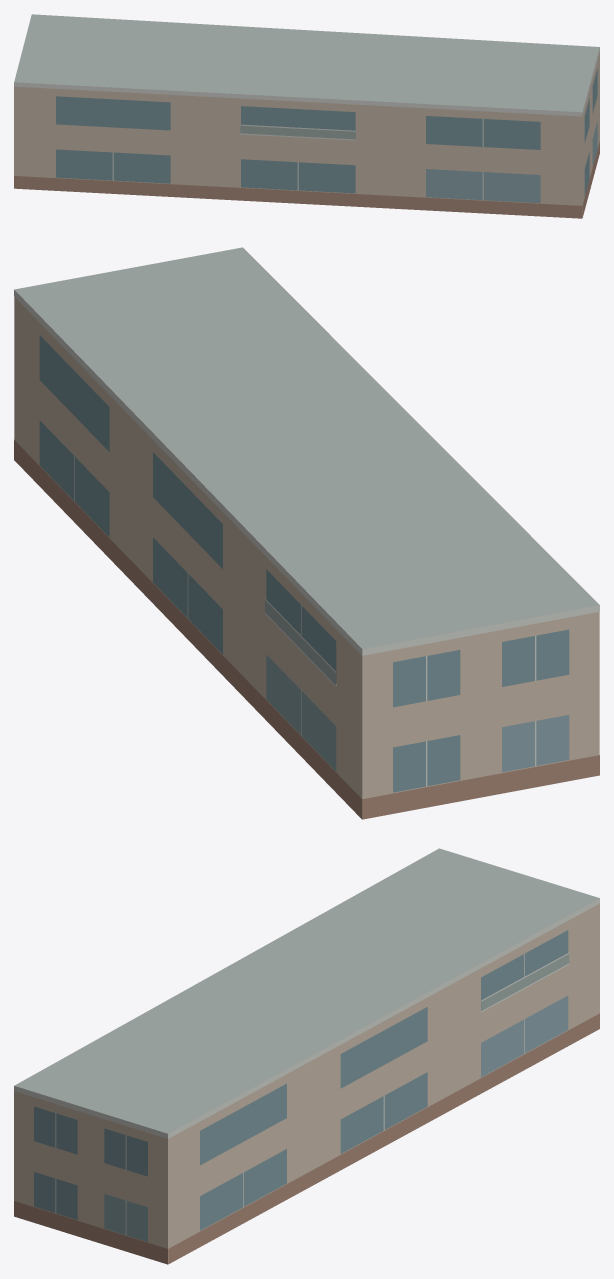
Rendered from survey-upis-32641698.glb.
3 views of the same model, one above another, from view 1: azimuth 30°, elevation 25°; view 2: azimuth 150°, elevation 25°; view 3: azimuth 270°, elevation 25° (orthographic). The views are drawn at different scales.
Parts seen in each view (by area): view 1: survey-upis-32641698.tmp; view 2: survey-upis-32641698.tmp; view 3: survey-upis-32641698.tmp.
Boxes of the visible parts, bbox=[...] form: survey-upis-32641698.tmp: bbox=[14, 14, 599, 218]; survey-upis-32641698.tmp: bbox=[14, 247, 599, 819]; survey-upis-32641698.tmp: bbox=[14, 848, 599, 1264].
Size of the model in its own units: 28.56 by 6.1 by 24.77.
